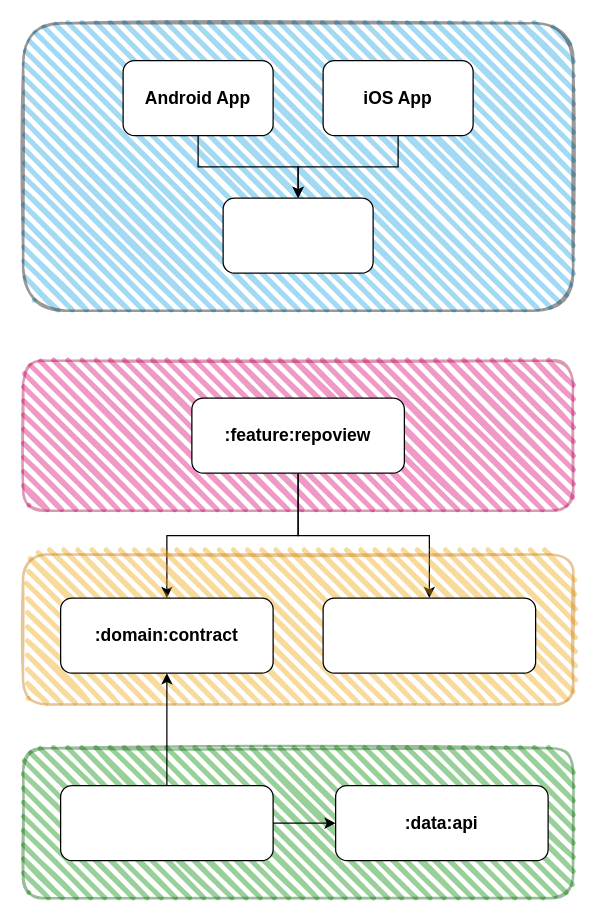
This 595x920 diagram has some shape labels left out. The shapes that lost their labels are listed below. From the top down, each one's box as (x1, y1, x2, y2) in pixels, then its label:
(222, 197, 373, 273): :shared DI基点
(322, 597, 536, 673): :domain:model
(59, 784, 273, 861): :data:repository
